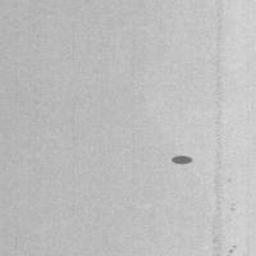Inclusion: (172, 155, 192, 165)
